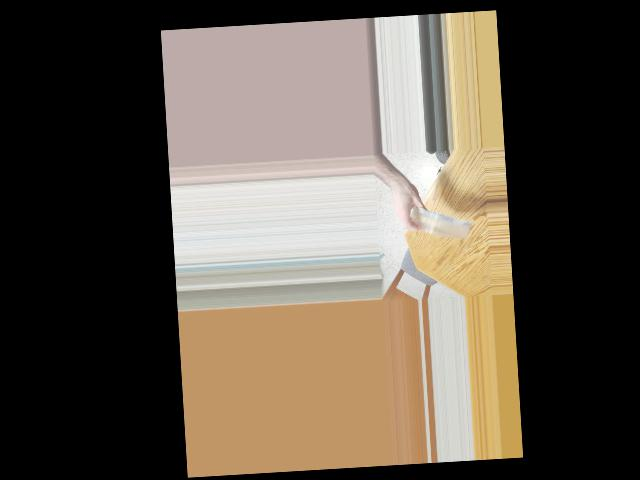cheese: (404, 210, 473, 238)
